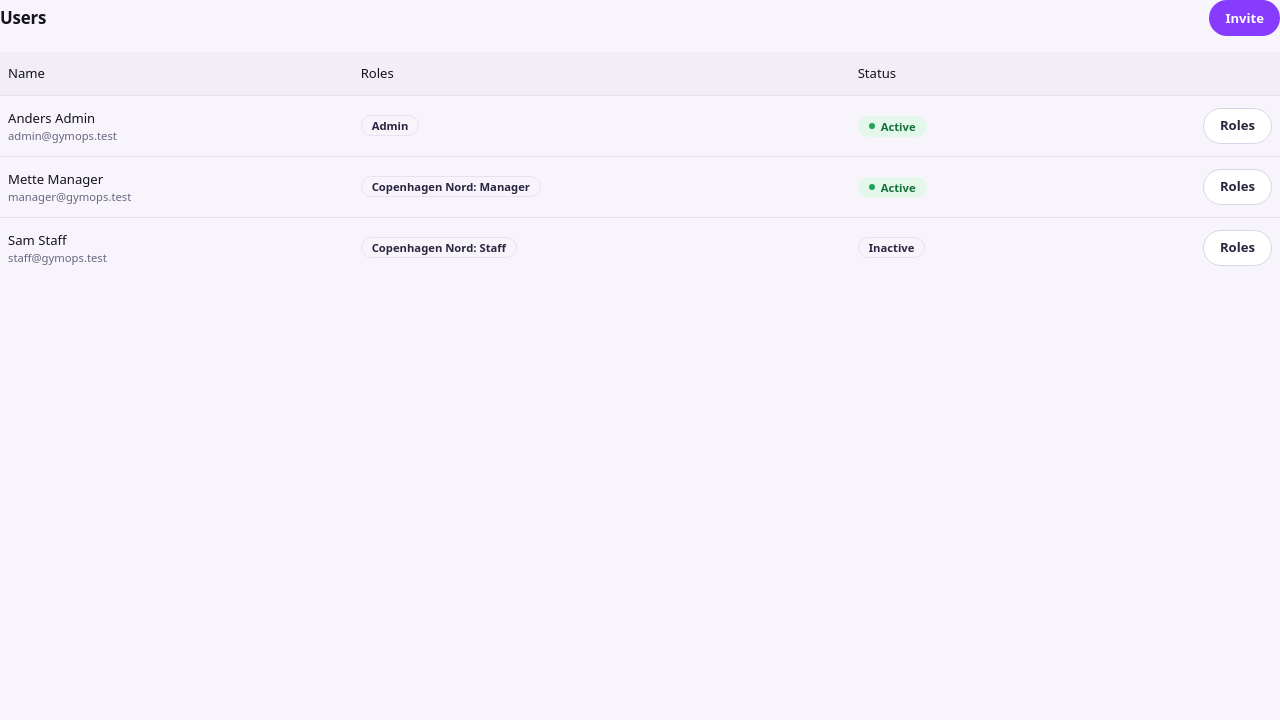
RolesDialog › lets a manager grant staff only
Click the button "Roles" in the row of "Sam Staff": (1238, 248) [1203,230,1272,266]
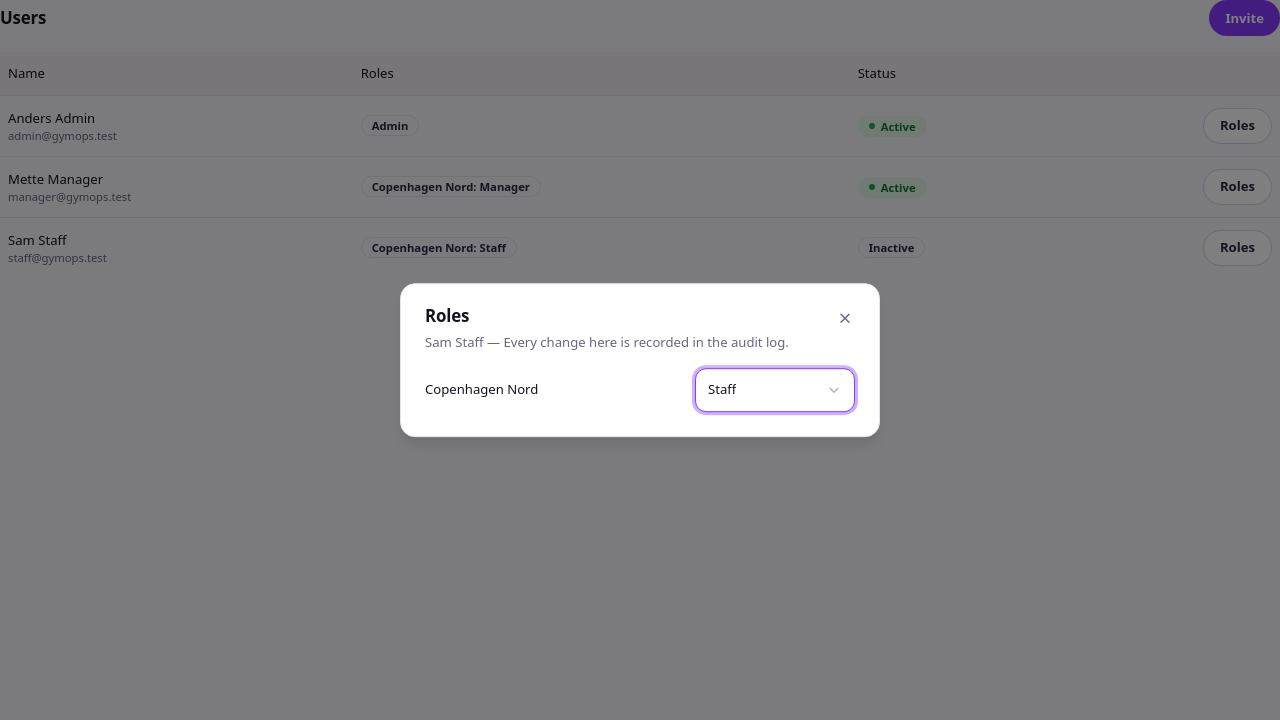
Click the dropdown named "Copenhagen Nord": (775, 390) [695,368,855,412]
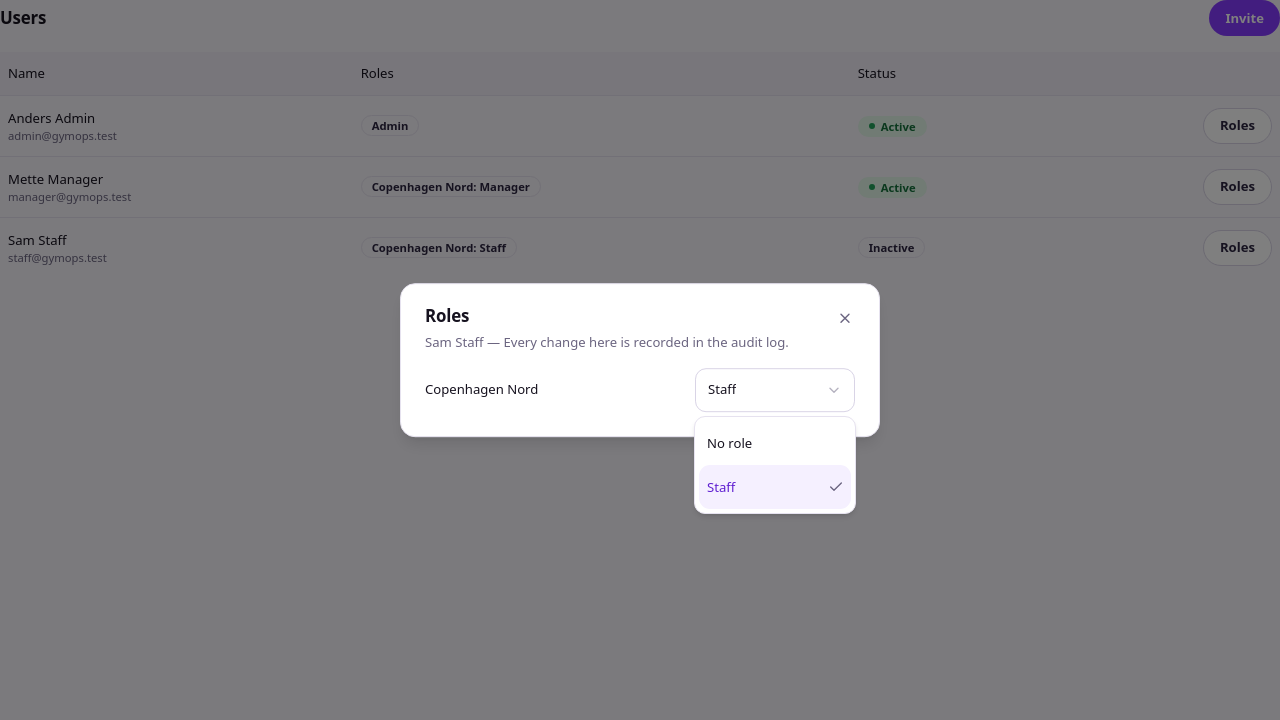
Now the option "Staff" is shown, box [699,465,851,509]
